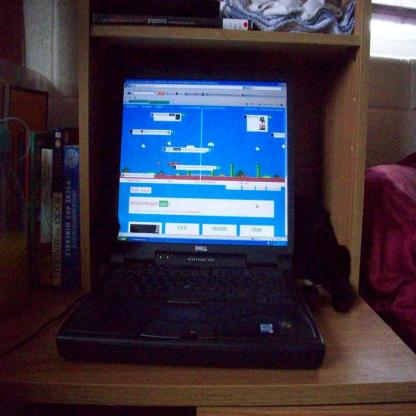board: (64, 59, 330, 378)
